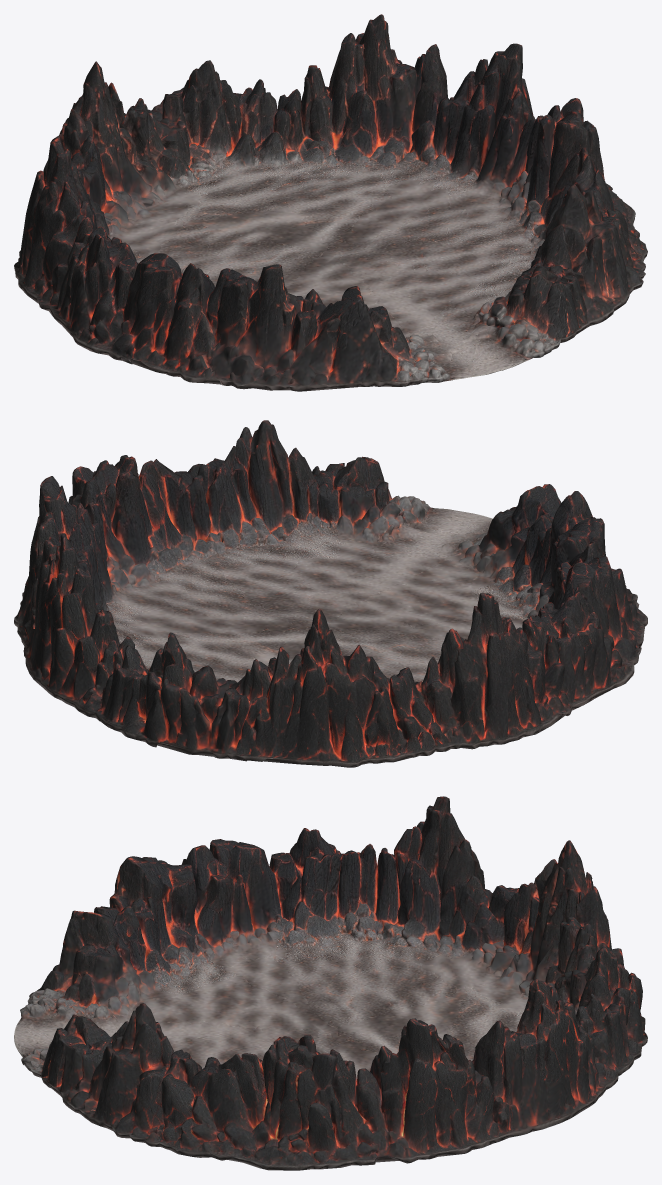
The model's file is Meshy_AI_Volcanic_Terrain_20261030_texture.fbx.
The picture shows the model from 3 angles, top to bottom: view 1: azimuth 30°, elevation 25°; view 2: azimuth 150°, elevation 25°; view 3: azimuth 270°, elevation 25°; orthographic projection.
Visible parts, largest first — view 1: Mesh_0; view 2: Mesh_0; view 3: Mesh_0.
Boxes of the visible parts, <box> form: Mesh_0: <box>14,14,647,391</box>; Mesh_0: <box>14,420,647,767</box>; Mesh_0: <box>14,796,647,1170</box>.
Bounding box in the file's own units: 200 × 48.39 × 198.
Materials: 1 (1 with a texture image).
